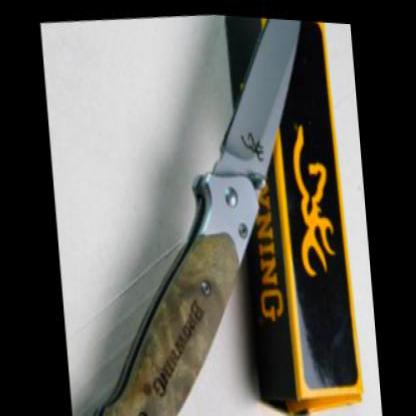knife: (174, 9, 334, 230)
